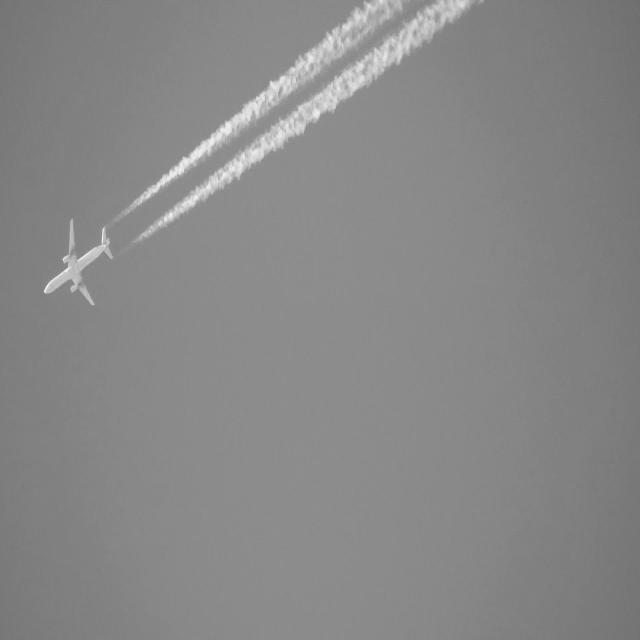aeroplane: (45, 218, 117, 312)
